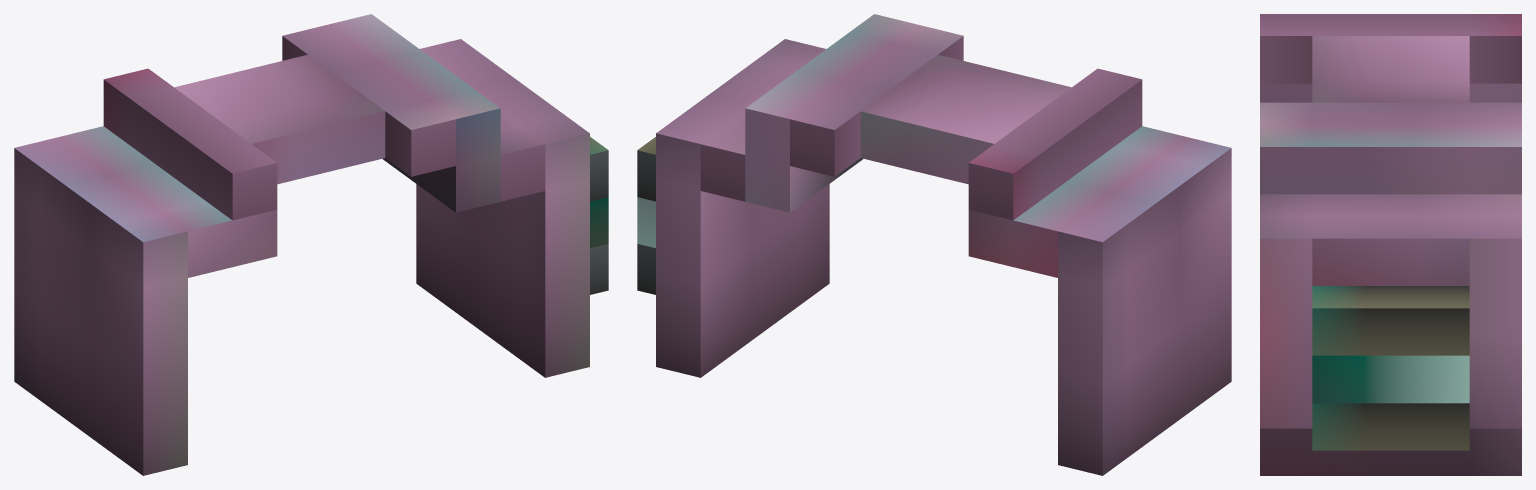
File: Scooter_Small_E_00.fbx
The picture shows the model from 3 angles, left to right: view 1: azimuth 30°, elevation 25°; view 2: azimuth 150°, elevation 25°; view 3: azimuth 270°, elevation 25°; orthographic projection.
Visible parts, largest first — view 1: Scooter_Small_E_00; view 2: Scooter_Small_E_00; view 3: Scooter_Small_E_00.
Part boxes in pixels (x1=…): Scooter_Small_E_00: x1=14, y1=14, x2=608, y2=475; Scooter_Small_E_00: x1=637, y1=14, x2=1231, y2=475; Scooter_Small_E_00: x1=1260, y1=14, x2=1521, y2=475.
Bounding box in the file's own units: 55 × 30 × 25.
